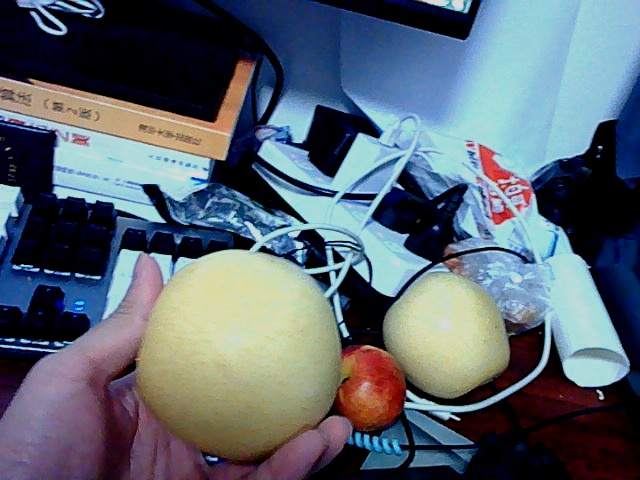pear: (143, 252, 341, 451), (382, 264, 515, 407)
